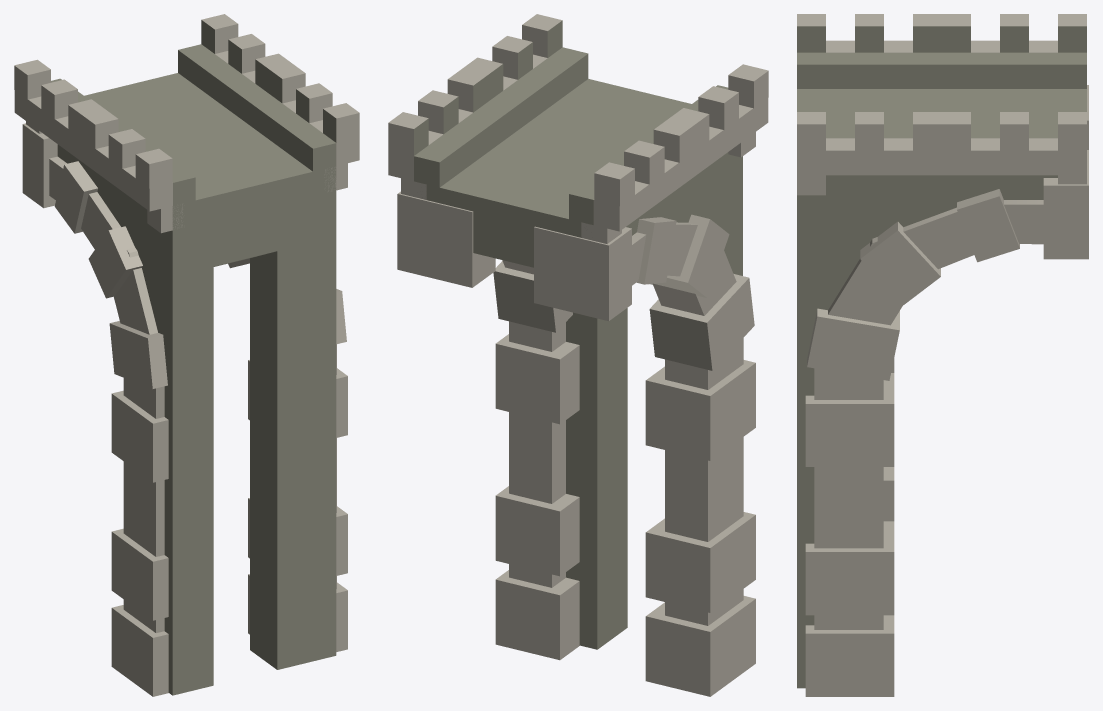
The model's file is seagate.fbx.
The picture shows the model from 3 angles, left to right: view 1: azimuth 30°, elevation 25°; view 2: azimuth 150°, elevation 25°; view 3: azimuth 270°, elevation 25°; orthographic projection. The views are drawn at different scales.
Parts seen in each view (by area): view 1: polySurface413; view 2: polySurface413; view 3: polySurface413.
Boxes of the visible parts, x1,y1,x2,y2 form: polySurface413: [14, 14, 359, 696]; polySurface413: [388, 14, 768, 696]; polySurface413: [797, 14, 1088, 696].
Size of the model in its own units: 90 by 220 by 101.
1 material, 1 textured.
